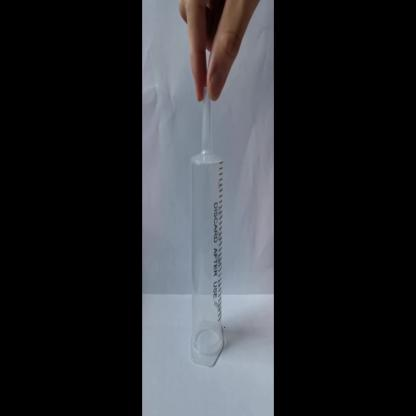dry: (187, 99, 227, 371)
